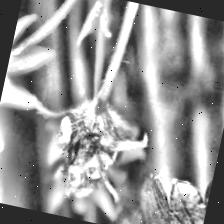Gray Mold: (14, 83, 142, 208)
